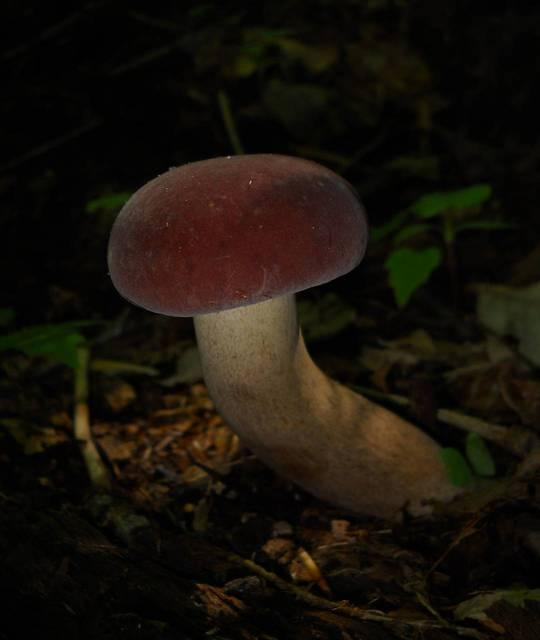poisonous_mushroom: (105, 151, 466, 521)
